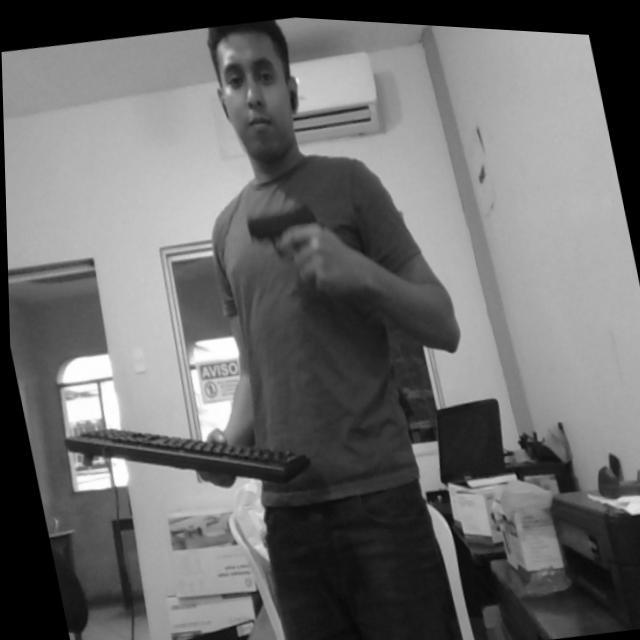weapon: (238, 192, 332, 264)
